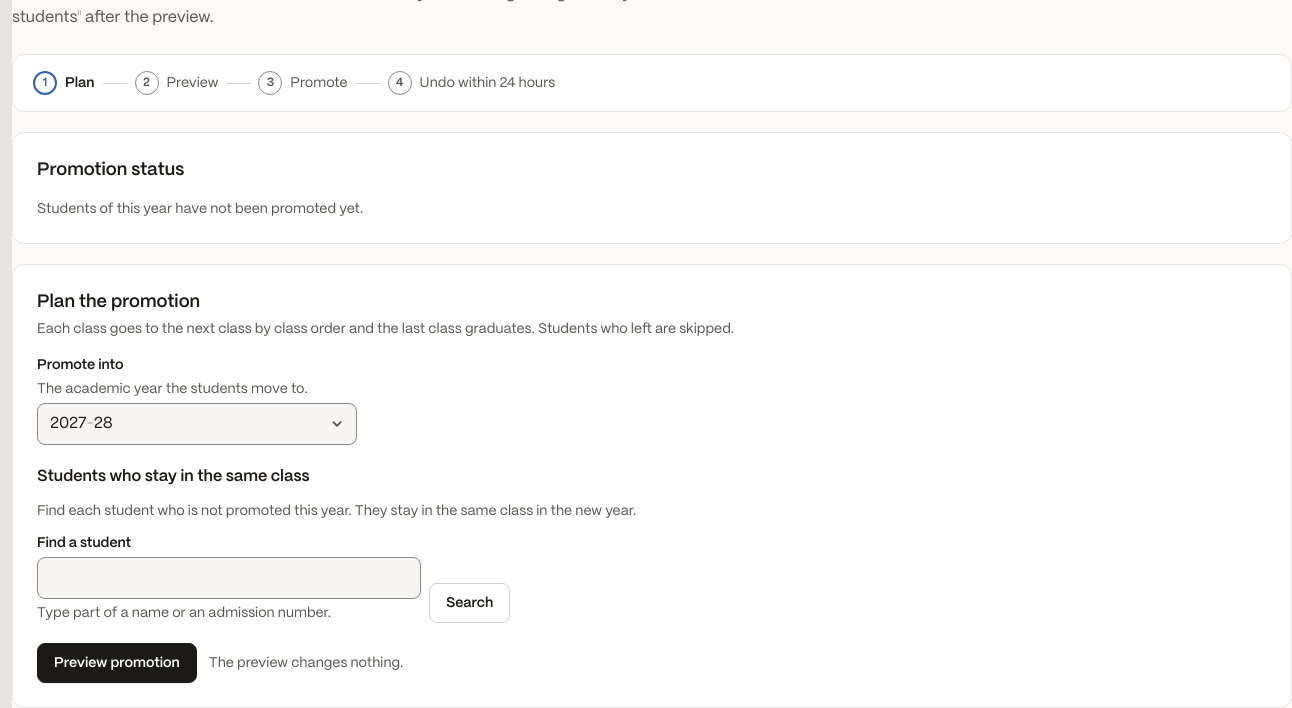
it: promotions screen (FR-TEN-011, US-202 AC2) › previews into the next later year: counts, groups and the section problem; commit waits
(page scrolled)
Click the button "Preview promotion": (117, 663) [37,643,197,683]
(page scrolled)
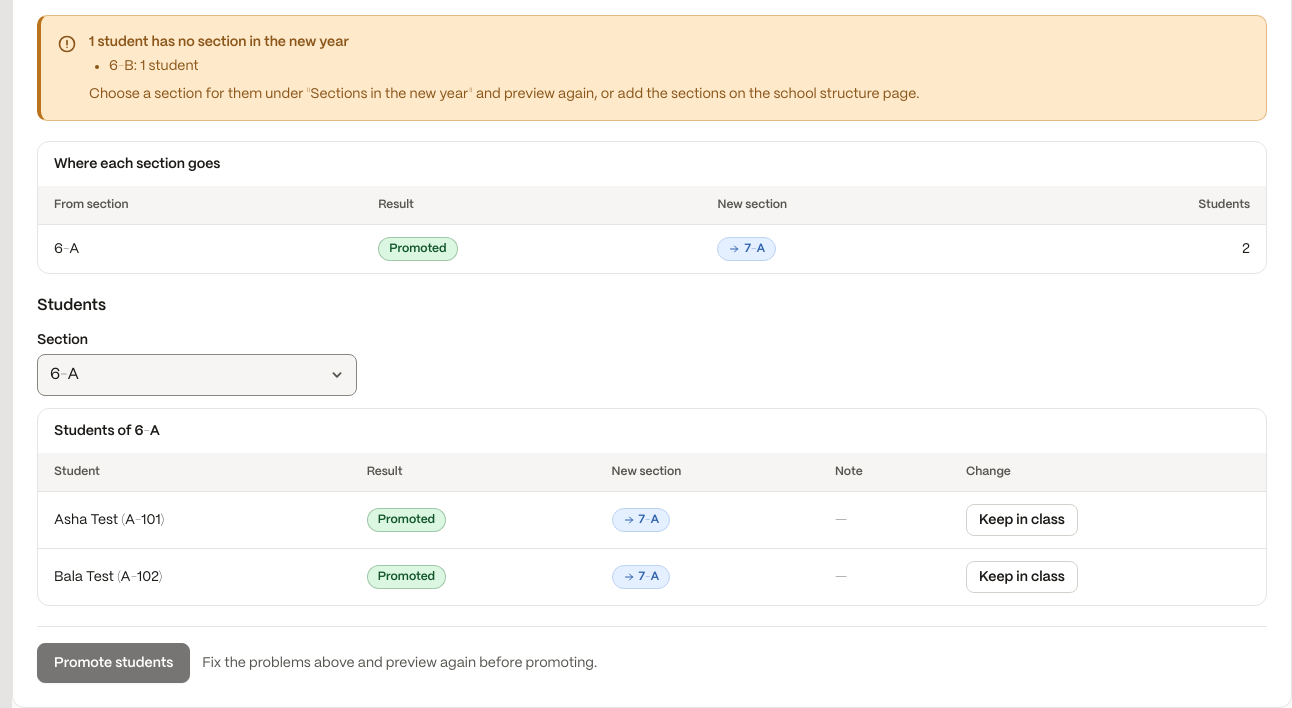
Expected: the text "1 student has no section in the new year" is shown, [89,35,349,49]
Expected: the list item "6-B: 1 student" is shown, [109,59,199,73]
Expected: the 1st text "7-A" is shown, [718,237,776,261]
